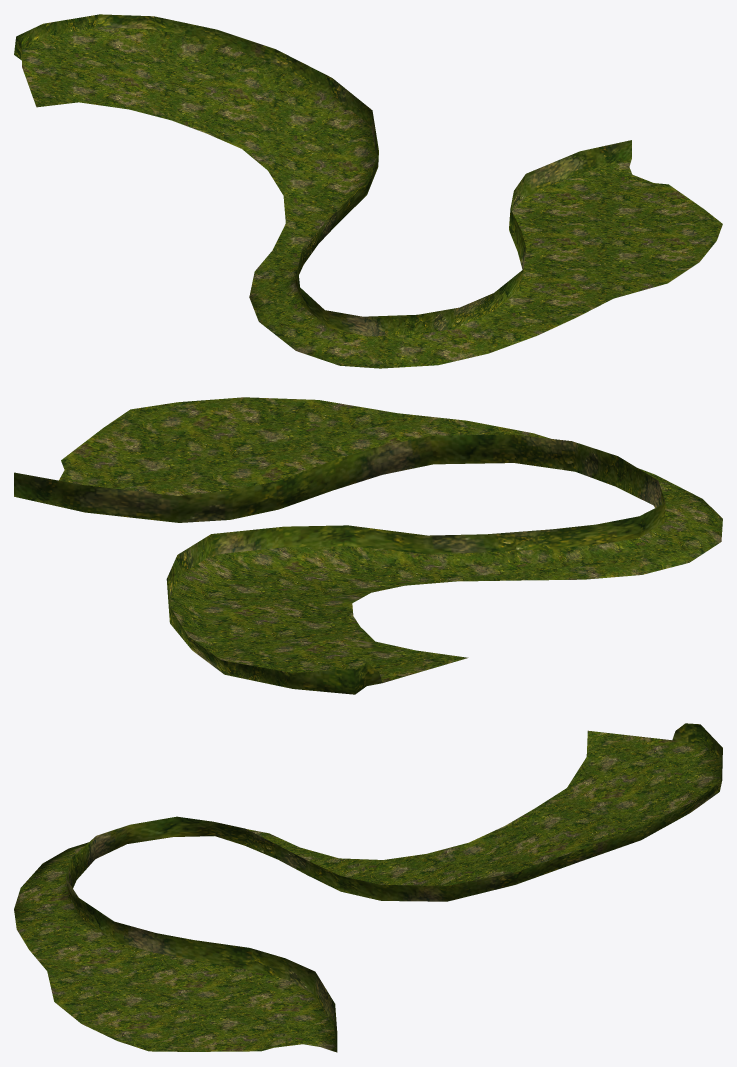
Rendered from OVERHILL_A_01_LINE235.fbx.
3 renders of one model, top to bottom at view 1: azimuth 30°, elevation 25°; view 2: azimuth 150°, elevation 25°; view 3: azimuth 270°, elevation 25°, orthographic. The views are drawn at different scales.
Visible parts, largest first — view 1: OVERHILL_A_01_LINE235; view 2: OVERHILL_A_01_LINE235; view 3: OVERHILL_A_01_LINE235.
Part boxes in pixels (<box>): OVERHILL_A_01_LINE235: <box>14,14,722,368</box>; OVERHILL_A_01_LINE235: <box>14,397,722,694</box>; OVERHILL_A_01_LINE235: <box>14,723,722,1052</box>.
Bounding box in the file's own units: 128584 × 28866 × 159977.
Materials: 2 (2 with a texture image).
